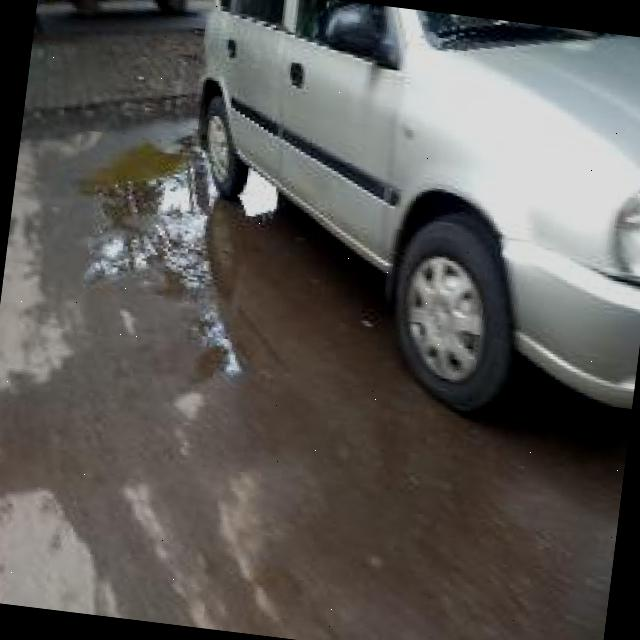stagnation: (59, 145, 289, 406)
